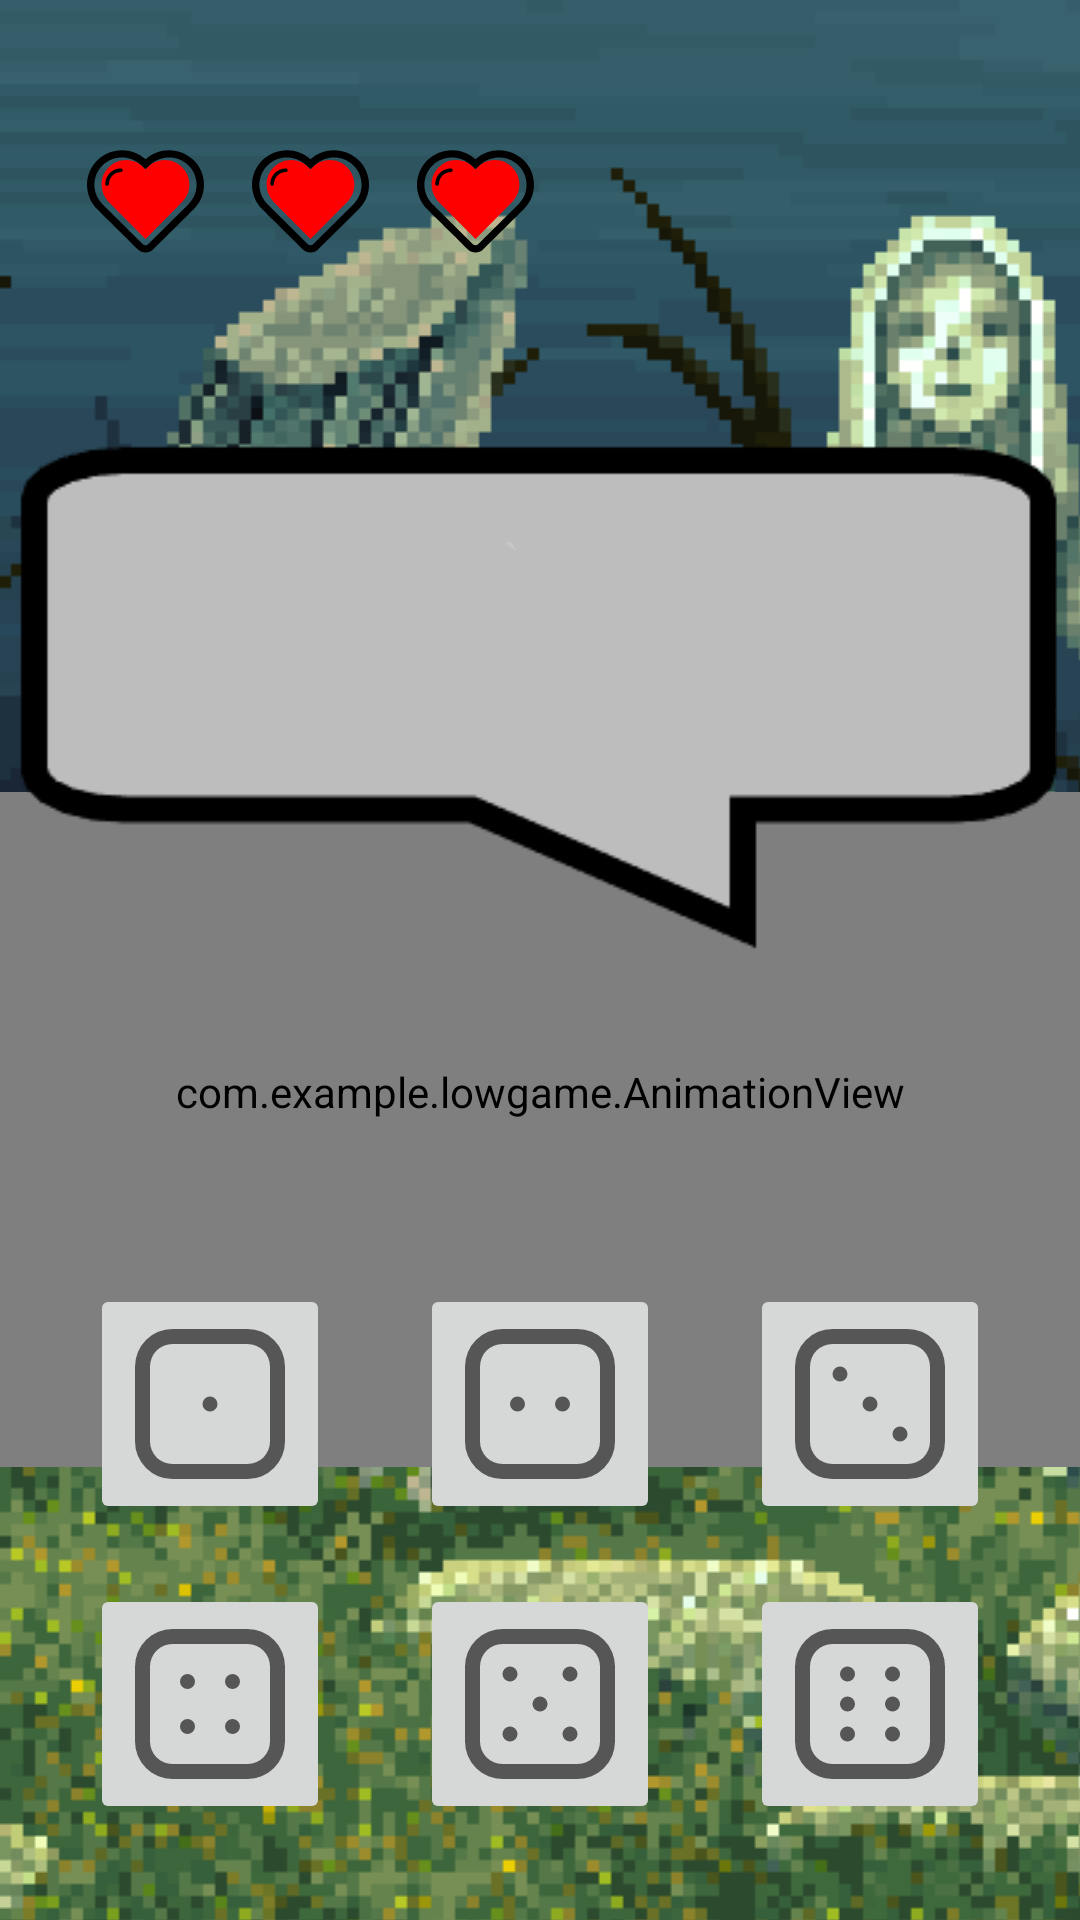

Icon click points for this 1080*1920 phone screenshot, format [x,y]:
dice: [210,1413], [540,1413], [870,1413], [210,1704], [540,1704], [870,1704]
heart: [145,201], [310,201], [475,210]
